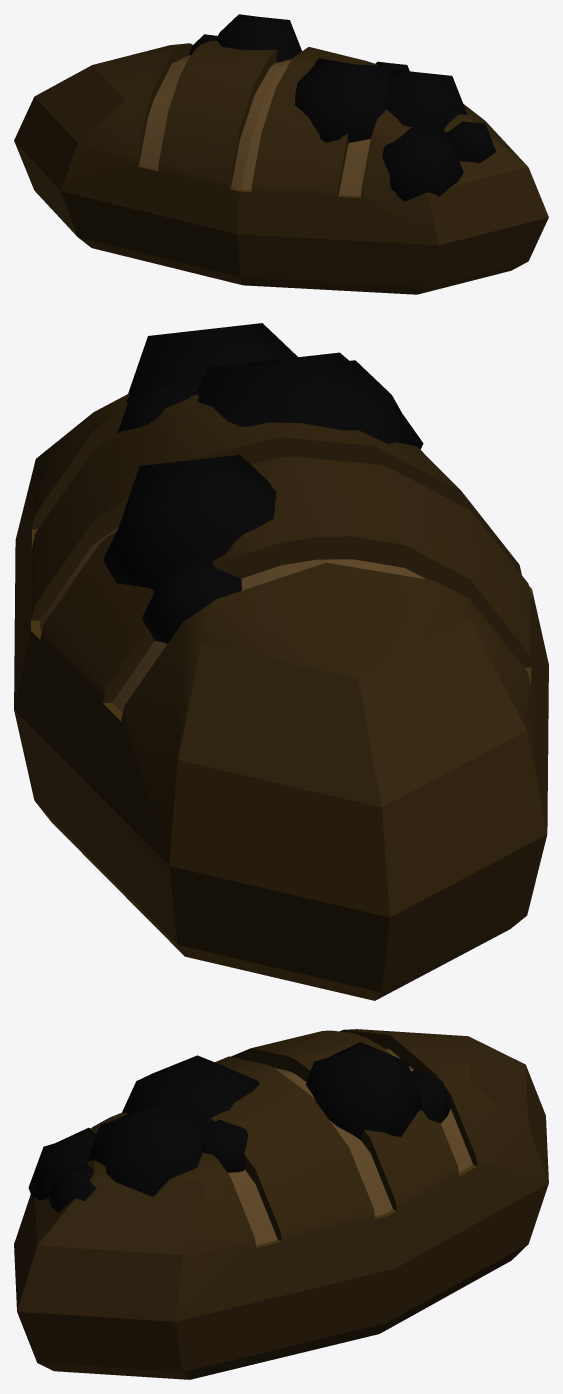
Rendered from RottenBread2.fbx.
3 renders of one model, top to bottom at view 1: azimuth 30°, elevation 25°; view 2: azimuth 150°, elevation 25°; view 3: azimuth 270°, elevation 25°, orthographic. The views are drawn at different scales.
Parts seen in each view (by area): view 1: pCube17; view 2: pCube17; view 3: pCube17.
Boxes of the visible parts, <box> form: pCube17: <box>14,14,548,294</box>; pCube17: <box>14,323,548,1000</box>; pCube17: <box>14,1029,548,1379</box>.
Bounding box in the file's own units: 27.77 × 14.61 × 29.03.
